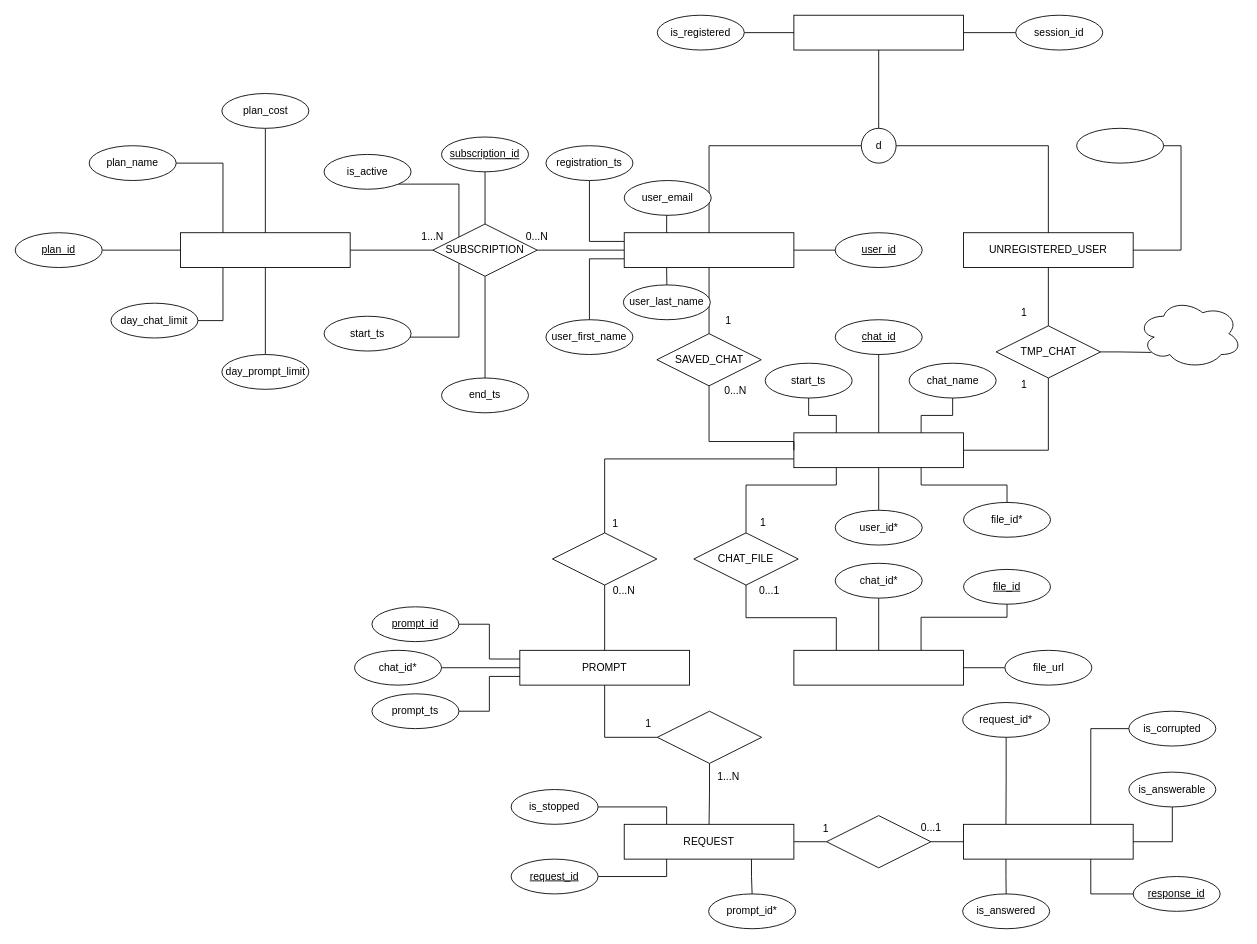
Some shapes in this 1257 by 944 pixel diagram are drawn without their labels. The centre of each missing label's shape, as x and y in pixels:
ANSWER: (x=878, y=841)
CHAT: (x=878, y=450)
FILE: (x=878, y=667)
not stored in db after after closing: (x=1189, y=333)
PLAN: (x=265, y=250)
PROCESSING: (x=709, y=736)
QUESTION: (x=604, y=558)
REGISTERED_USER: (x=708, y=250)
RESPONSE: (x=1048, y=841)
USER: (x=878, y=32)
user_tmp_id: (x=1120, y=145)
